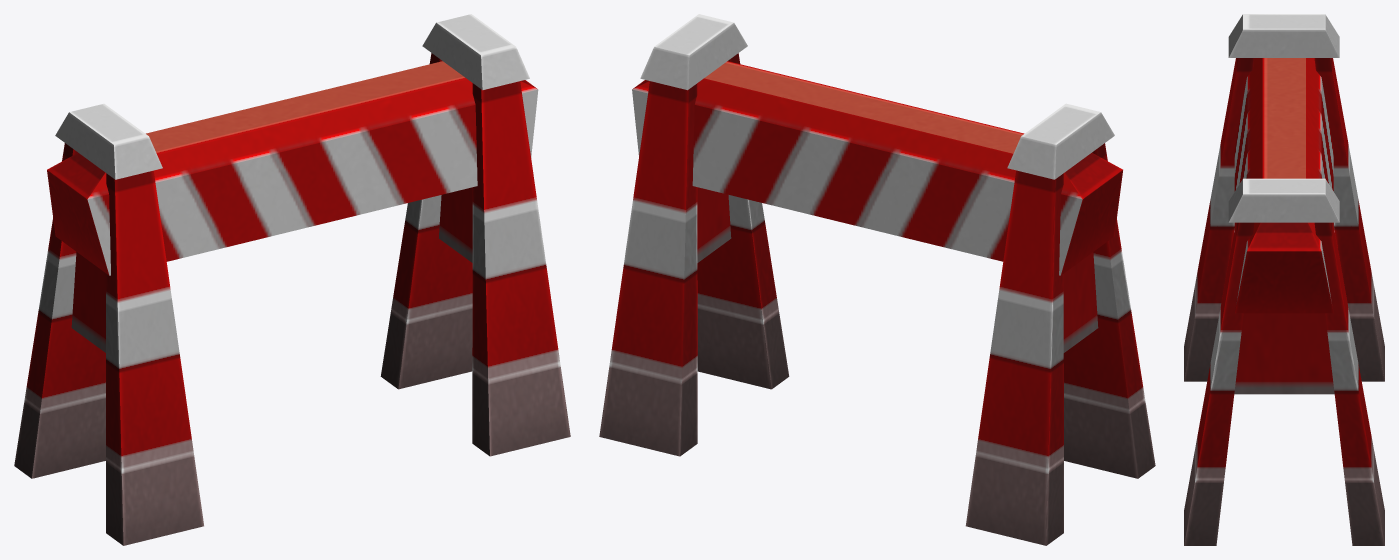
Rendered from Block_Zhong.FBX.
The picture shows the model from 3 angles, left to right: view 1: azimuth 30°, elevation 25°; view 2: azimuth 150°, elevation 25°; view 3: azimuth 270°, elevation 25°; orthographic projection. The views are drawn at different scales.
Visible parts, largest first — view 1: Block_Zhong; view 2: Block_Zhong; view 3: Block_Zhong.
Part boxes in pixels (x1,y1,x2,y2): Block_Zhong: (14,14,570,545); Block_Zhong: (599,14,1155,545); Block_Zhong: (1184,14,1384,545).
Size of the model in its own units: 171 by 135 by 71.92.
